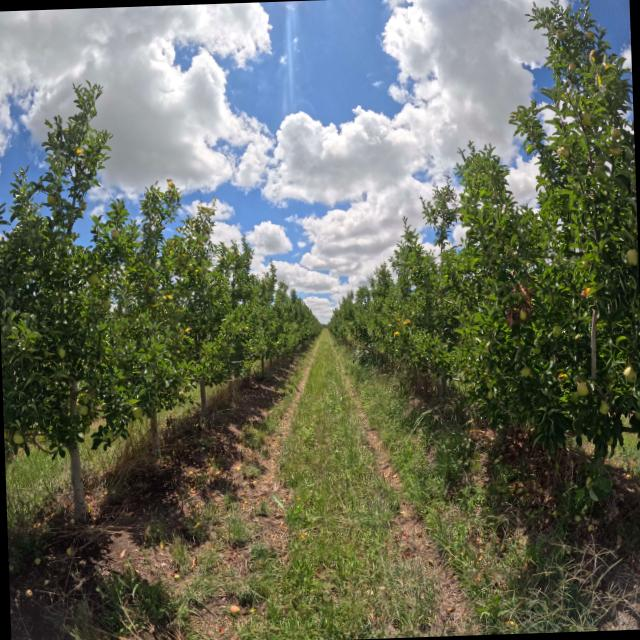-FireBlight-: (506, 283, 533, 325), (526, 273, 534, 282), (511, 283, 517, 293), (510, 269, 515, 275)
